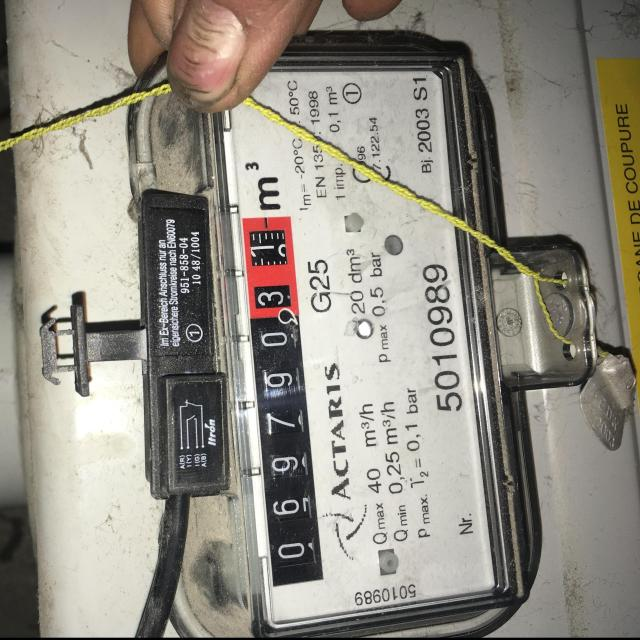gaz_meter: (208, 54, 524, 635)
indication: (242, 215, 324, 585)
